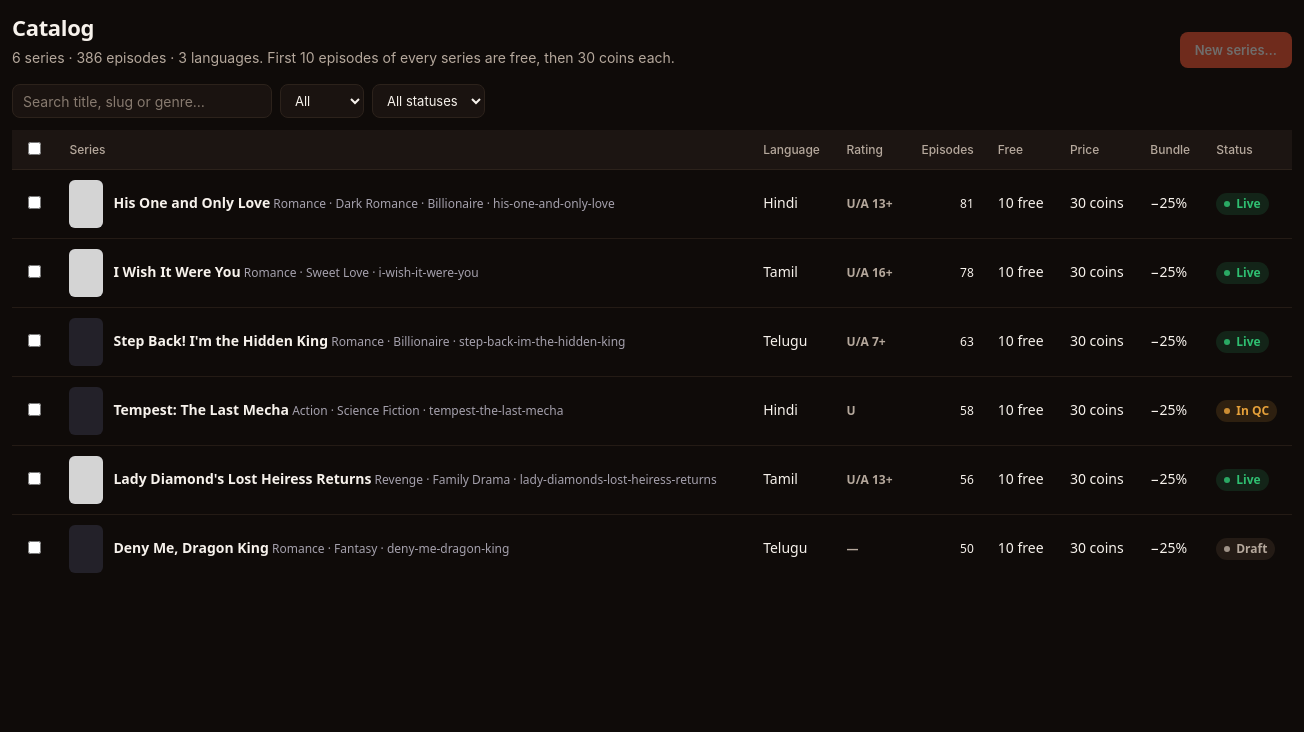
Test: Catalog view › filters by search query (title/slug/genre)
This screenshot has width=1304, height=732.
Check: the text "His One and Only Love" is shown, box left=114, top=193, right=270, bottom=212
Type "dragon" into the field with placeholder "Search title, slug or genre…" at (142, 101), box left=12, top=84, right=272, bottom=118
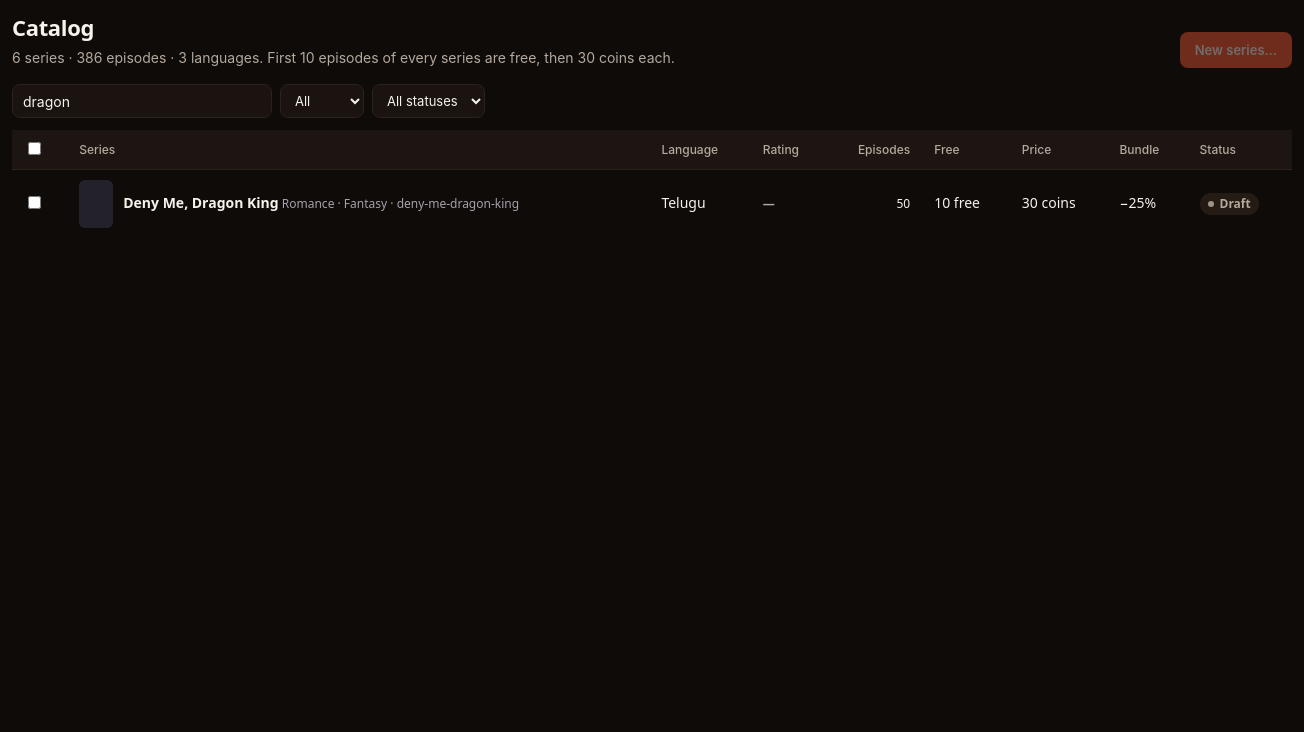
Check: the text "Deny Me, Dragon King" is shown, box left=123, top=193, right=279, bottom=212
Check: the link "His One and Only Love" is gone
